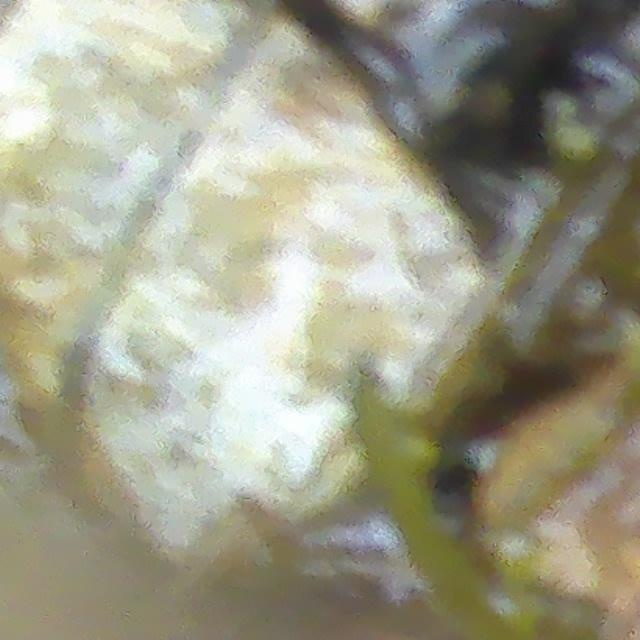SeaGrape: (561, 267, 613, 337)
